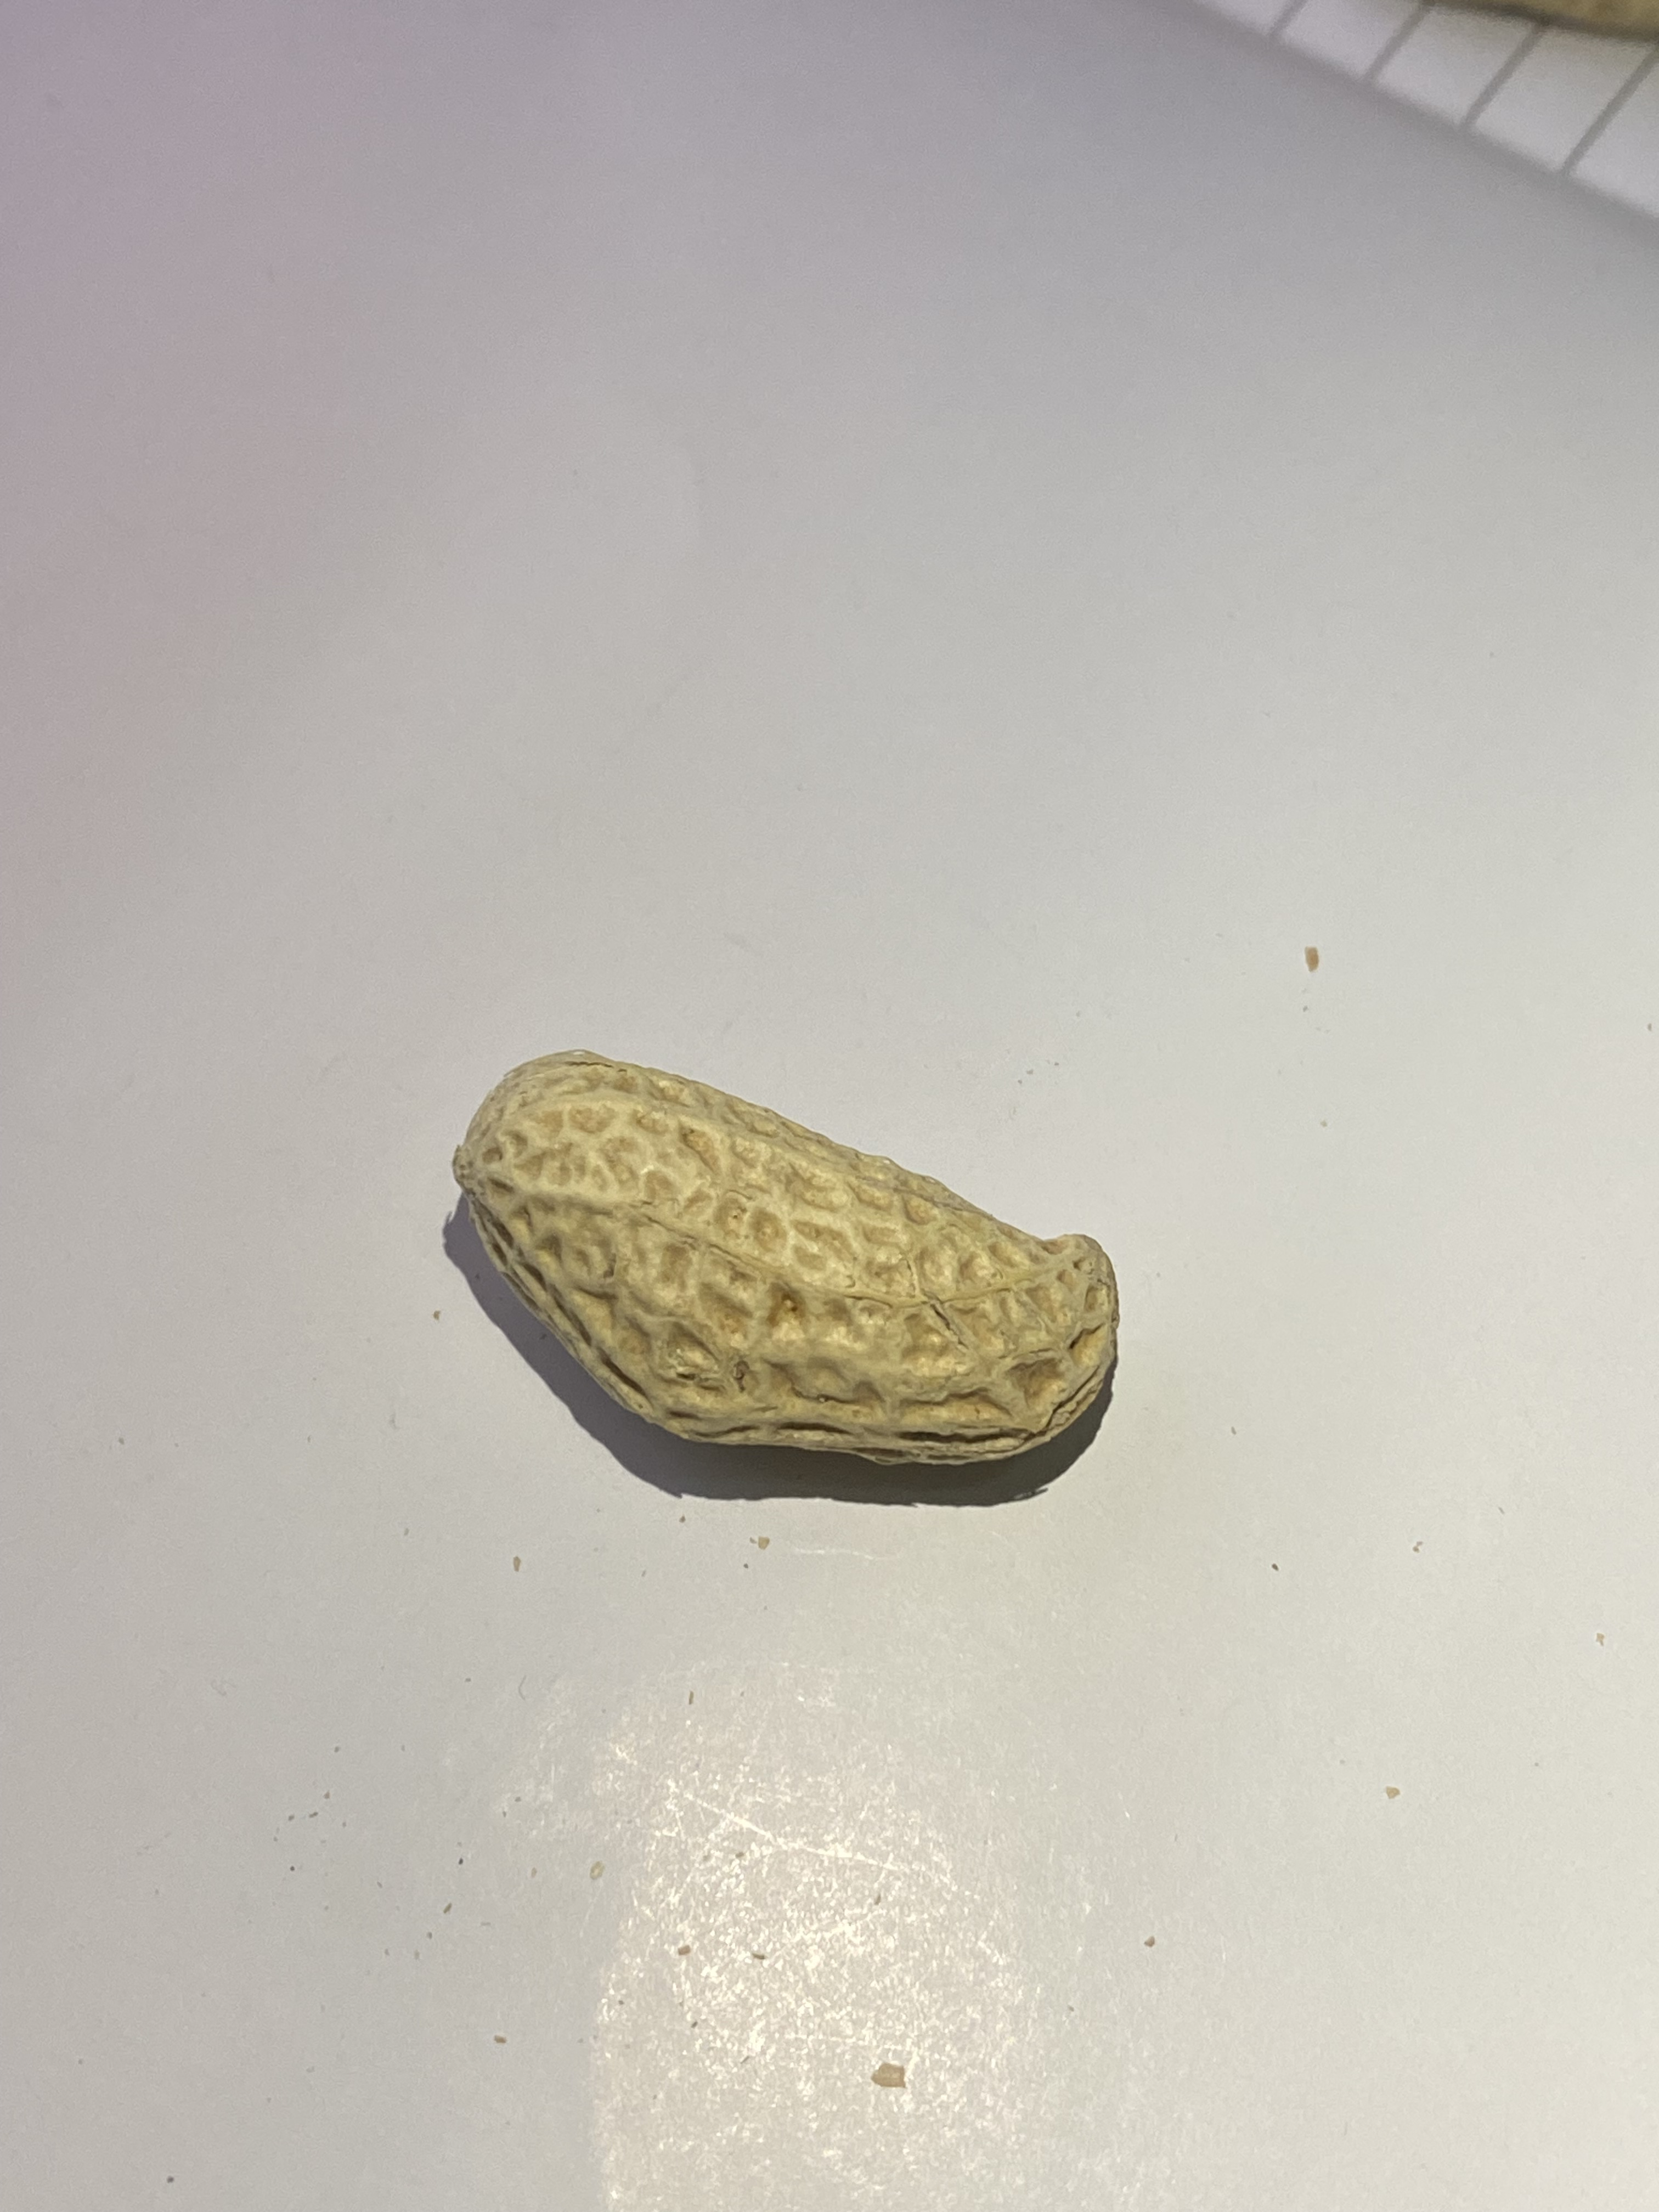kacang2: (443, 1052, 1150, 1470)
